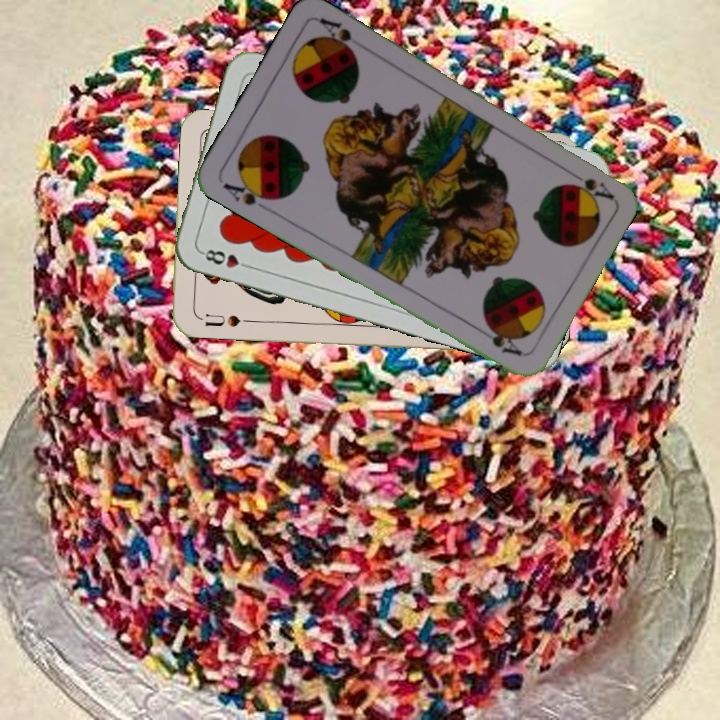H8: (197, 245, 255, 271)
SA: (562, 165, 616, 202), (219, 175, 277, 208)
SU: (194, 310, 253, 330)
